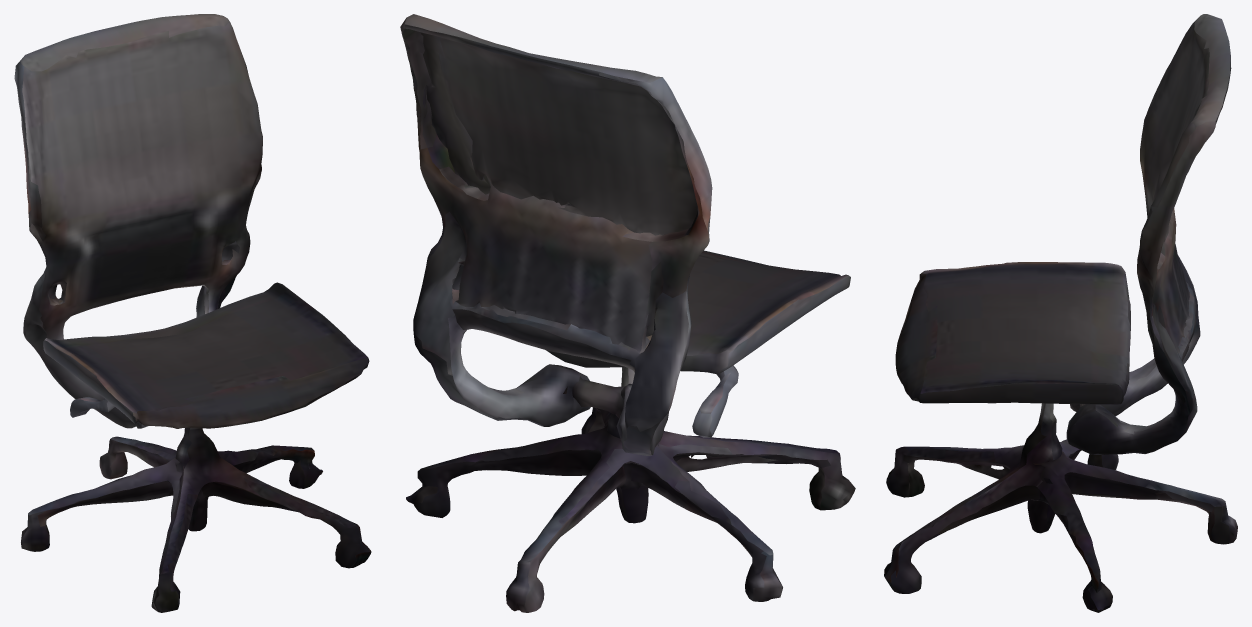
3 renders of one model, left to right at view 1: azimuth 30°, elevation 25°; view 2: azimuth 150°, elevation 25°; view 3: azimuth 270°, elevation 25°, orthographic. The views are drawn at different scales.
Parts seen in each view (by area): view 1: world; view 2: world; view 3: world.
Boxes of the visible parts, left/top/right/bottom form: world: left=14, top=14, right=371, bottom=612; world: left=400, top=14, right=855, bottom=612; world: left=884, top=14, right=1237, bottom=612.
Bounding box in the file's own units: 0.2865 × 0.4054 × 0.2717.
Materials: 1 (1 with a texture image).
